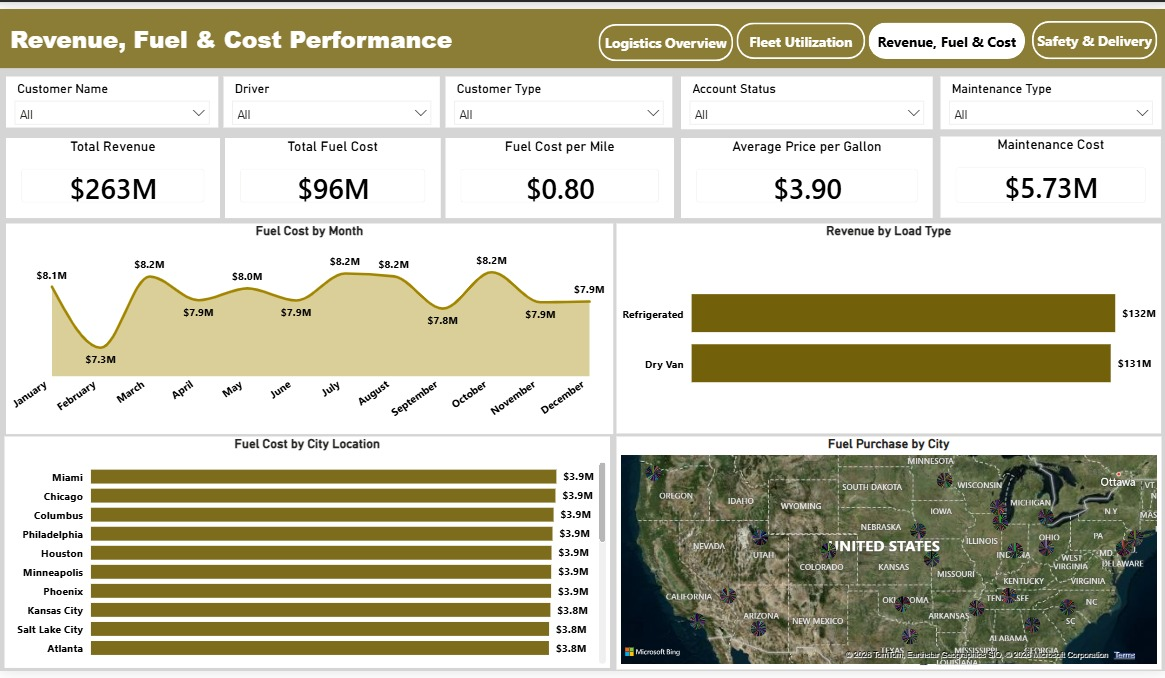

What the dashboard file says about the page in this screenshot:
{"tool":"powerbi","page":{"name":"Revenue, Fuel & Cost","canvas":[1341,762],"ordinal":2},"visuals":[{"type":"shape","box":[0,0,1378,68.3],"z":0},{"type":"cardVisual","title":"Total Revenue","fields":{"Data":["Loads.Total Revenue"]},"box":[6.2,147.9,245.8,91.7],"z":1000},{"type":"cardVisual","title":"Total Fuel Cost","fields":{"Data":["Fuel Purchases.Total Fuel Cost"]},"box":[258.3,147.9,247.9,91.7],"z":2000},{"type":"cardVisual","title":"Fuel Cost per Mile","fields":{"Data":["Fuel Purchases.Fuel Cost per Mile"]},"box":[512.5,147.9,262.5,91.7],"z":3000},{"type":"cardVisual","title":"Average Price per Gallon","fields":{"Data":["Avg(Fuel Purchases.price_per_gallon)"]},"box":[783.3,147.9,289.6,91.7],"z":4000},{"type":"slicer","fields":{"Values":["Customers.customer_name"]},"box":[6.2,77.1,243.8,58.3],"z":5000},{"type":"slicer","fields":{"Values":["Drivers.first_name"]},"box":[256.1,78,248.8,58.5],"z":6000},{"type":"slicer","fields":{"Values":["Customers.customer_type"]},"box":[512.2,78,261,58.5],"z":7000},{"type":"slicer","fields":{"Values":["Customers.account_status"]},"box":[783.3,77.1,289.6,60.4],"z":8000},{"type":"slicer","fields":{"Values":["Maintenance Records.maintenance_type"]},"box":[1081.2,77.1,254.2,60.4],"z":9000},{"type":"actionButton","box":[688.1,16.7,154.8,42.9],"z":10000},{"type":"actionButton","box":[846,16,148,42],"z":11000},{"type":"actionButton","box":[998,16,180,42],"z":12000},{"type":"actionButton","box":[1186,14,144,44],"z":13000},{"type":"textbox","box":[7.5,10,535,60],"z":14000},{"type":"cardVisual","title":"Maintenance Cost","fields":{"Data":["Maintenance Records.Total Maintenance Cost"]},"box":[1081,146.6,253.4,93.1],"z":15000},{"type":"lineChart","title":"Fuel Cost by Month","fields":{"Category":["Fuel Purchases.purchase_date.Variation.Date Hierarchy.Month"],"Y":["Fuel Purchases.Total Fuel Cost"]},"box":[6.7,246.7,697.8,242.2],"z":16000},{"type":"barChart","title":"Revenue by Load Type","fields":{"Category":["Loads.load_type"],"Y":["Loads.Total Revenue"]},"box":[708.6,246.6,625.9,241.4],"z":18000},{"type":"barChart","title":"Fuel Cost by City Location","fields":{"Category":["Fuel Purchases.location_city"],"Y":["Fuel Purchases.Total Fuel Cost"]},"box":[6,492,696,266],"z":19000},{"type":"map","title":"Fuel Purchase by City","fields":{"Category":["Fuel Purchases.location_city"],"Series":["Fuel Purchases.fuel_purchase_id"]},"box":[708.6,491.4,625.9,267.2],"z":19001}]}

Visuals, with their boxes in screenshot pixels (x1, y1, x2, y2), scaled from the page's 1341x762 canvas onto the 1165x678 screenshot:
shape: rect(0, 0, 1164, 61)
"Total Revenue" cardVisual: rect(5, 132, 219, 213)
"Total Fuel Cost" cardVisual: rect(224, 132, 440, 213)
"Fuel Cost per Mile" cardVisual: rect(445, 132, 673, 213)
"Average Price per Gallon" cardVisual: rect(680, 132, 932, 213)
slicer - Customers.customer_name: rect(5, 69, 217, 120)
slicer - Drivers.first_name: rect(222, 69, 439, 121)
slicer - Customers.customer_type: rect(445, 69, 672, 121)
slicer - Customers.account_status: rect(680, 69, 932, 122)
slicer - Maintenance Records.maintenance_type: rect(939, 69, 1160, 122)
actionButton: rect(598, 15, 732, 53)
actionButton: rect(735, 14, 864, 52)
actionButton: rect(867, 14, 1023, 52)
actionButton: rect(1030, 12, 1155, 52)
textbox: rect(7, 9, 471, 62)
"Maintenance Cost" cardVisual: rect(939, 130, 1159, 213)
"Fuel Cost by Month" lineChart: rect(6, 220, 612, 435)
"Revenue by Load Type" barChart: rect(616, 219, 1159, 434)
"Fuel Cost by City Location" barChart: rect(5, 438, 610, 674)
"Fuel Purchase by City" map: rect(616, 437, 1159, 675)
